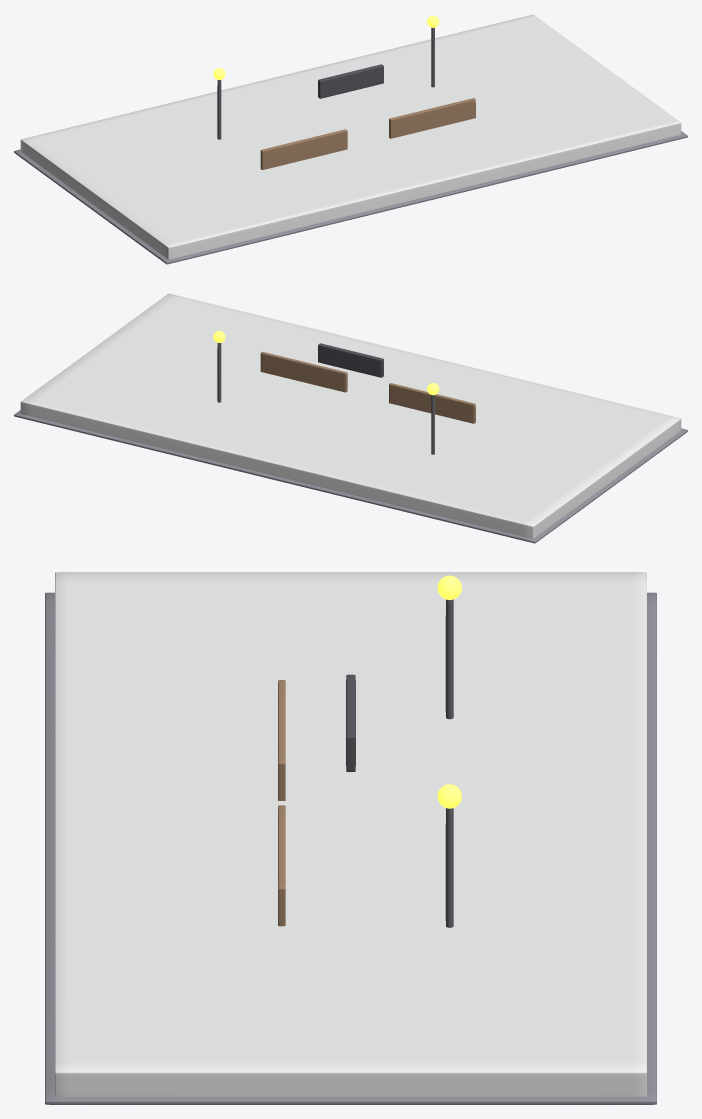
The model's file is station-home.glb.
3 views of the same model, one above another, from view 1: azimuth 30°, elevation 25°; view 2: azimuth 150°, elevation 25°; view 3: azimuth 270°, elevation 25° (orthographic). The views are drawn at different scales.
Parts seen in each view (by area): view 1: station-home; view 2: station-home; view 3: station-home.
Part boxes in pixels (<box>): station-home: <box>14,14,687,264</box>; station-home: <box>14,293,687,543</box>; station-home: <box>45,572,656,1104</box>.
Size of the model in its own units: 24.4 by 3.85 by 12.4.
